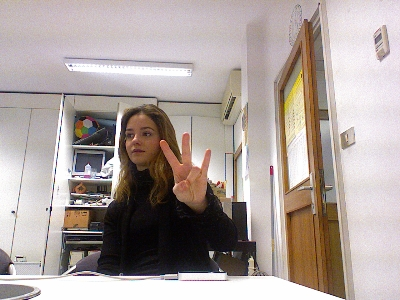观音: (158, 129, 213, 204)
